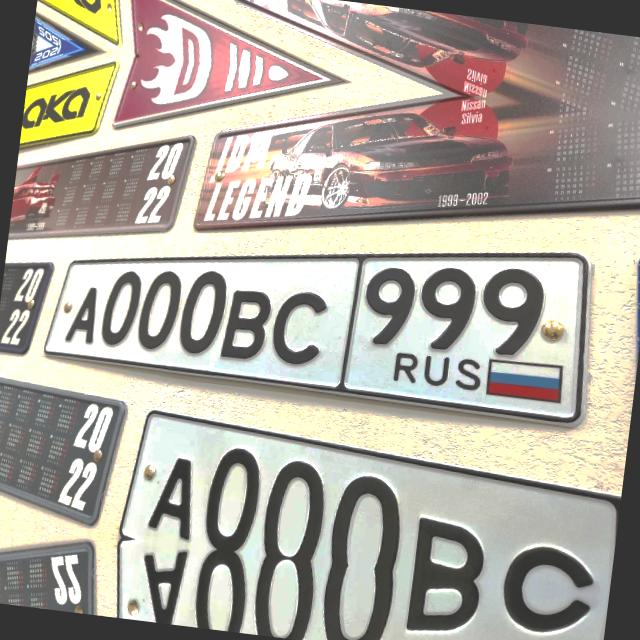citizen: (38, 185, 604, 432)
